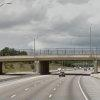Bridge: (4, 46, 94, 67)
